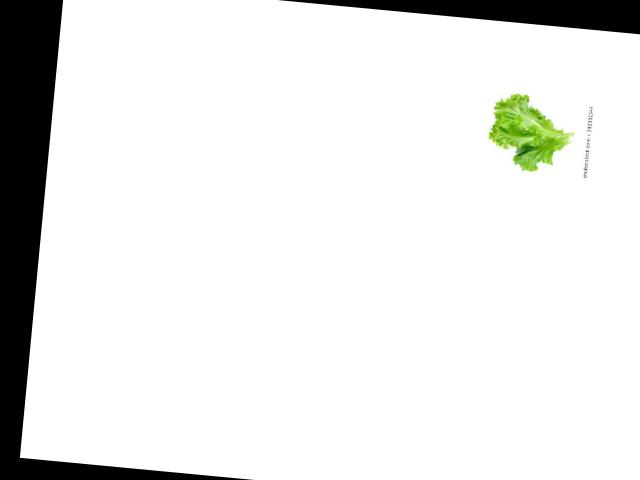lettuce: (483, 91, 583, 178)
